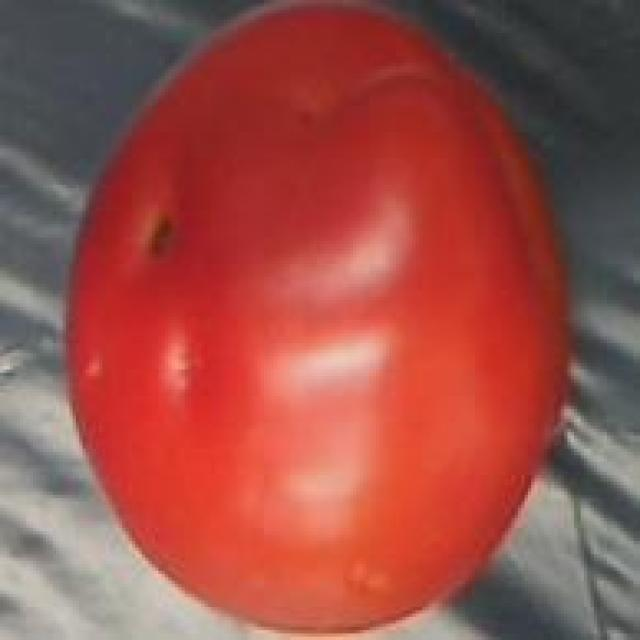overripe tomato: (56, 0, 581, 640)
